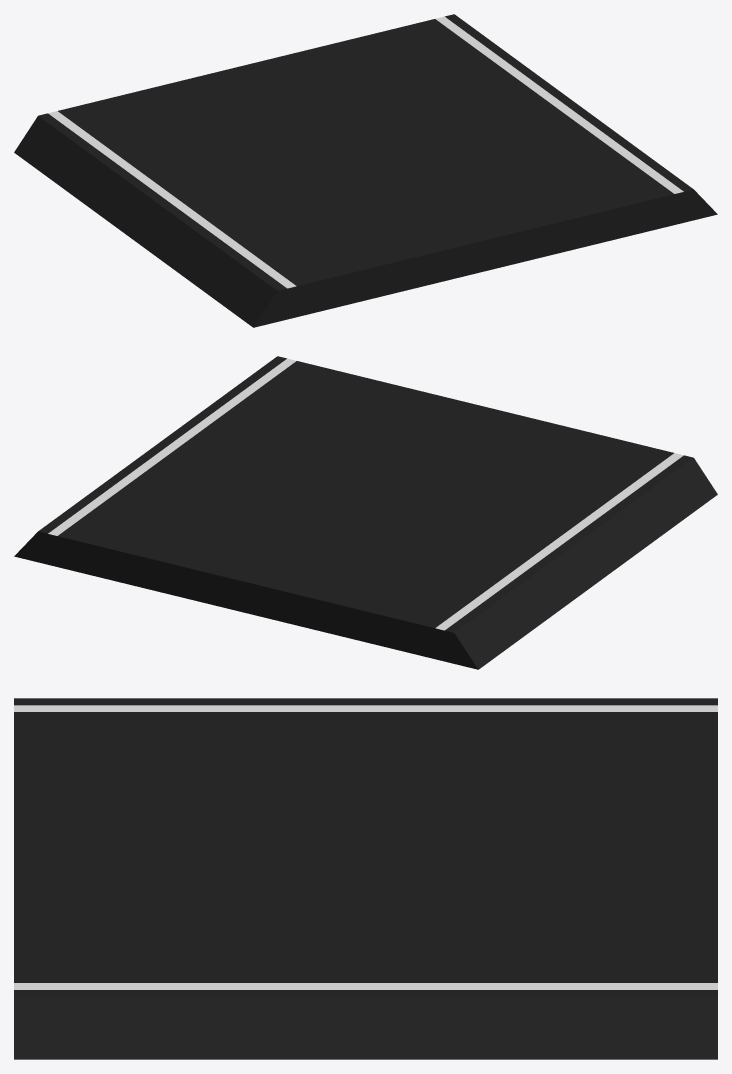
The model's file is Asphalt.fbx.
The picture shows the model from 3 angles, top to bottom: view 1: azimuth 30°, elevation 25°; view 2: azimuth 150°, elevation 25°; view 3: azimuth 270°, elevation 25°; orthographic projection. The views are drawn at different scales.
Visible parts, largest first — view 1: straight.010; view 2: straight.010; view 3: straight.010.
Part boxes in pixels (left/top/right/bottom): straight.010: left=14, top=14, right=717, bottom=327; straight.010: left=14, top=356, right=717, bottom=669; straight.010: left=14, top=698, right=717, bottom=1059.
Bounding box in the file's own units: 1120 × 71.39 × 1000.
1 material, 1 textured.
